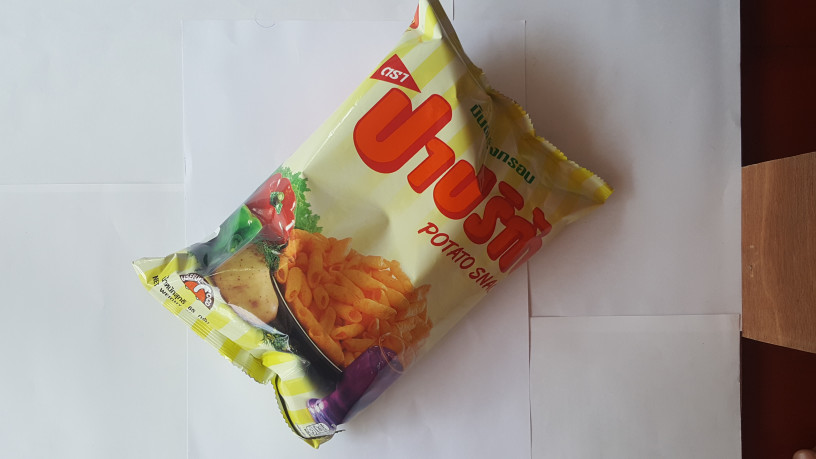paprika: (126, 1, 618, 455)
